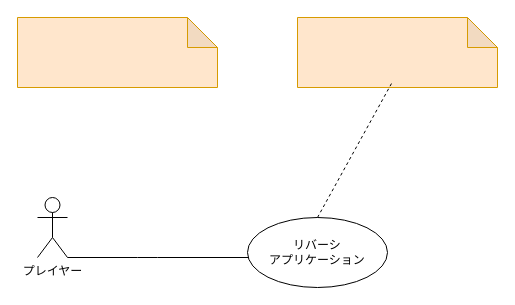
Some shapes in this 515 by 305 pixel diagram are drawn without their labels. The box of each missing label's shape, as (x1, y1, x2, y2) in pixels:
WEBアプリケーション: (296, 16, 498, 88)
一人で黒白交互に打つ 最後に個人練習でCPUは作りたい: (16, 16, 218, 88)
